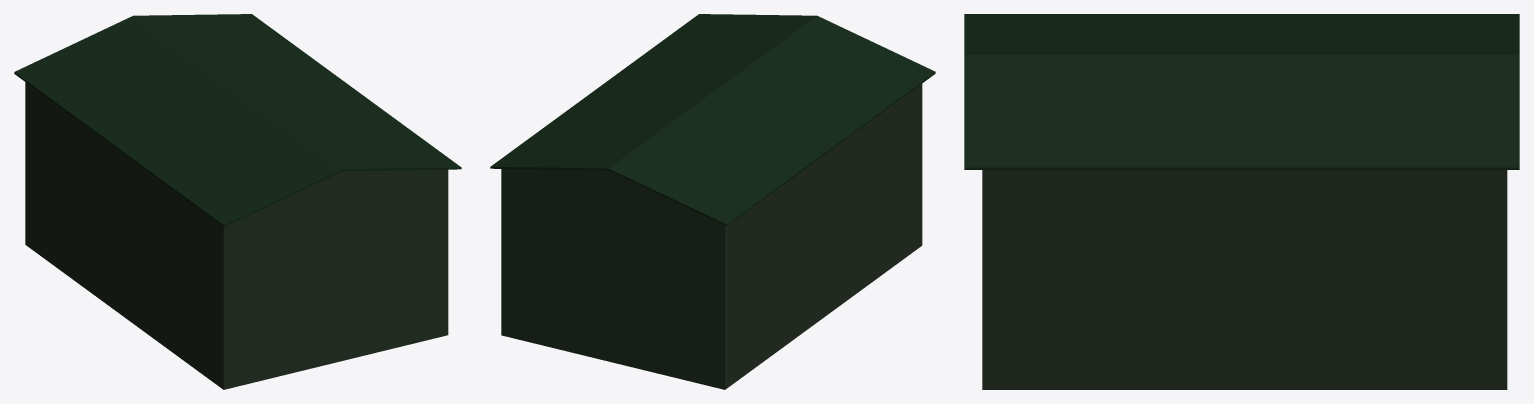
3 views of the same model, side by side, from view 1: azimuth 30°, elevation 25°; view 2: azimuth 150°, elevation 25°; view 3: azimuth 270°, elevation 25° (orthographic). The views are drawn at different scales.
Parts seen in each view (by area): view 1: side_wall, roof_skin; view 2: side_wall, roof_skin; view 3: side_wall, roof_skin.
Boxes of the visible parts, x1,y1,x2,y2 form: side_wall: [25, 82, 448, 389]; roof_skin: [14, 14, 461, 227]; side_wall: [501, 84, 922, 389]; roof_skin: [490, 14, 935, 226]; side_wall: [982, 170, 1507, 389]; roof_skin: [964, 14, 1519, 169].
Bounding box in the file's own units: 3.28 × 2.62 × 5.02.
